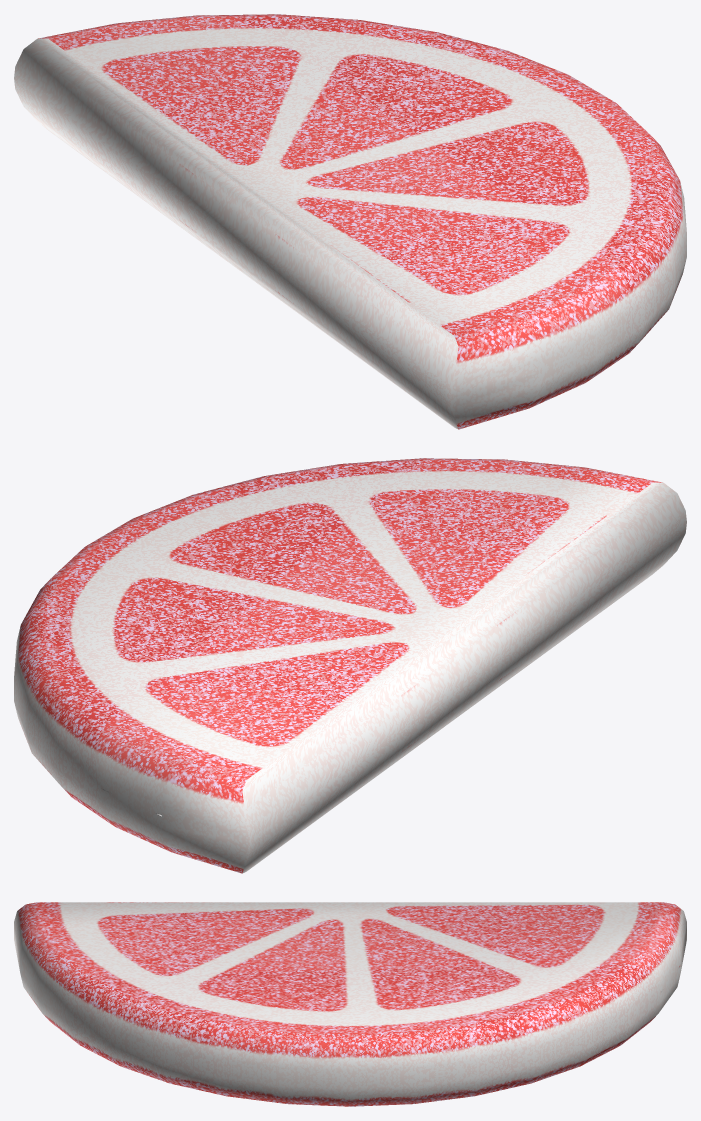
File: Gummy Rodaja Mitad.fbx
3 views of the same model, one above another, from view 1: azimuth 30°, elevation 25°; view 2: azimuth 150°, elevation 25°; view 3: azimuth 270°, elevation 25° (orthographic). The views are drawn at different scales.
Visible parts, largest first — view 1: Gummy Rodaja Mitad; view 2: Gummy Rodaja Mitad; view 3: Gummy Rodaja Mitad.
Part boxes in pixels (x1=…): Gummy Rodaja Mitad: x1=14, y1=14, x2=686, y2=429; Gummy Rodaja Mitad: x1=14, y1=458, x2=686, y2=873; Gummy Rodaja Mitad: x1=14, y1=902, x2=686, y2=1106.
Bounding box in the file's own units: 0.0525 × 0.0116 × 0.0999.
